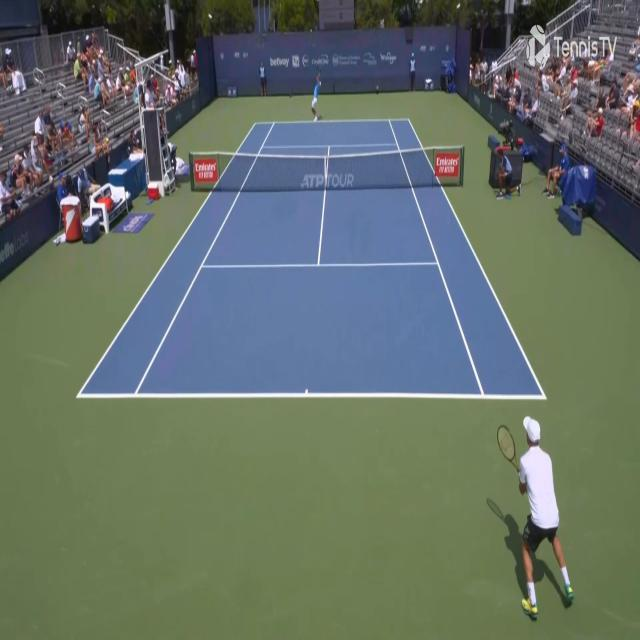tennis-player: (484, 414, 575, 618), (310, 65, 325, 122)
